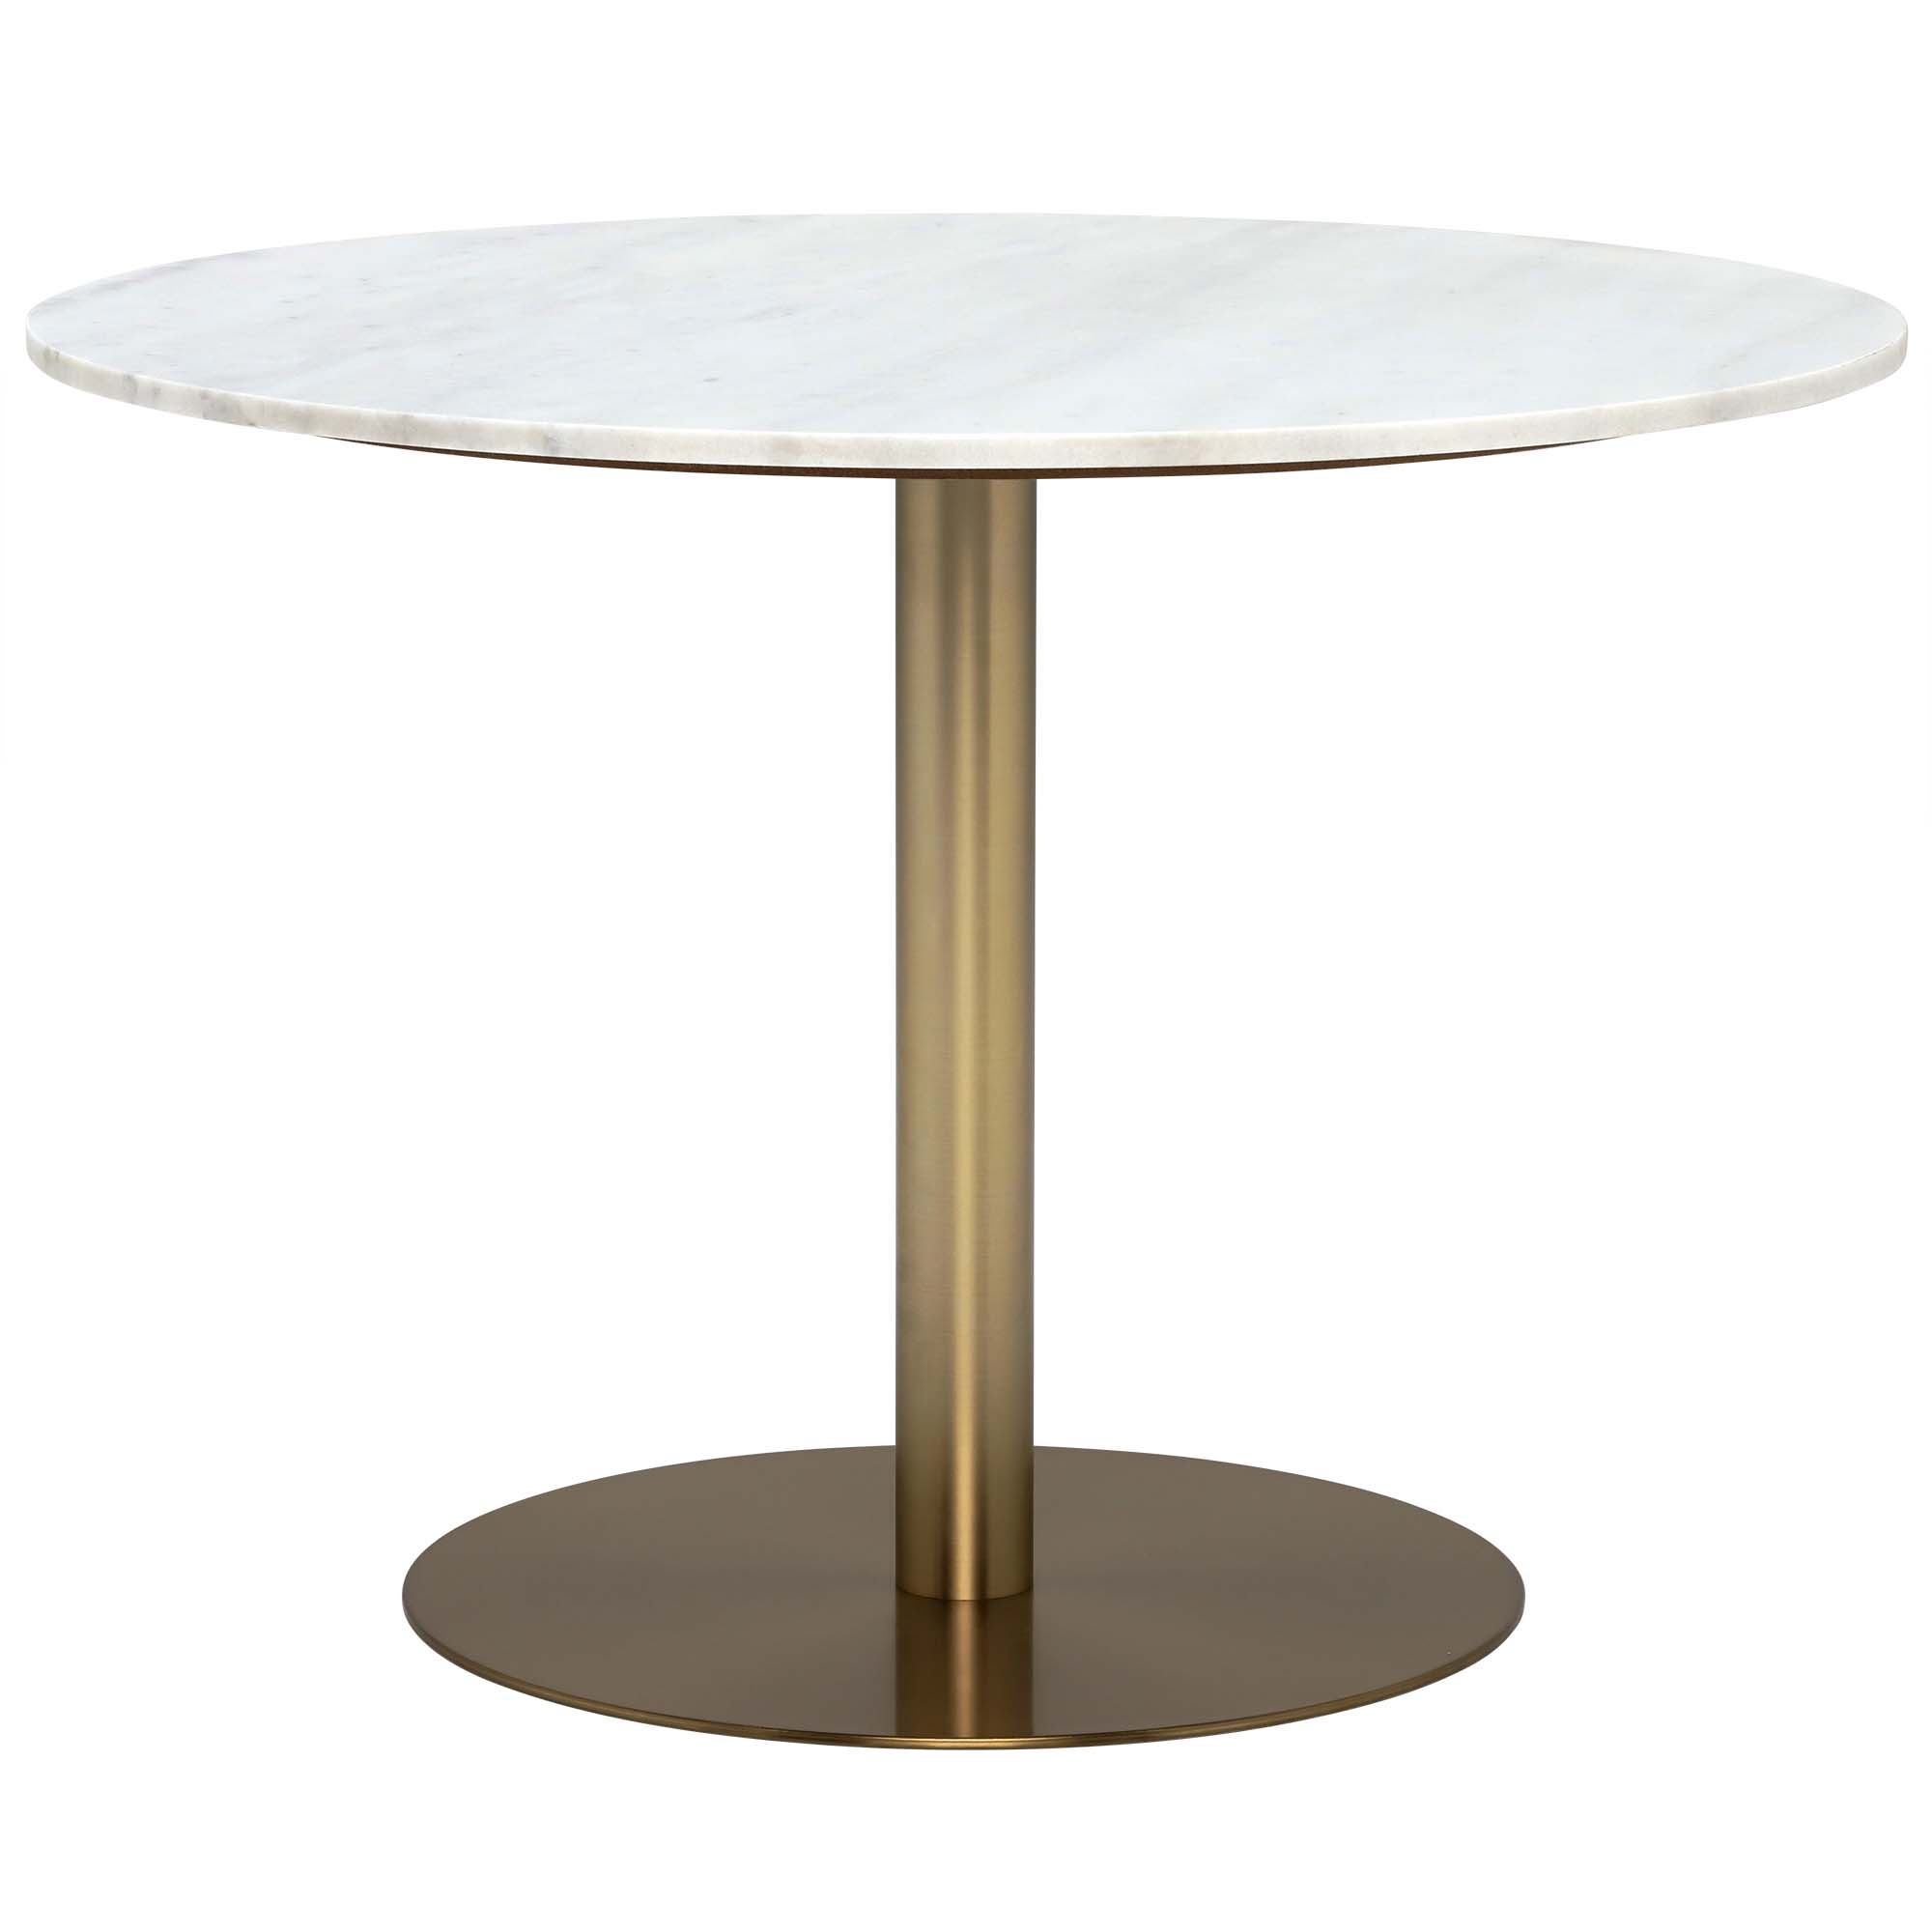meja: (21, 195, 1904, 1755)
